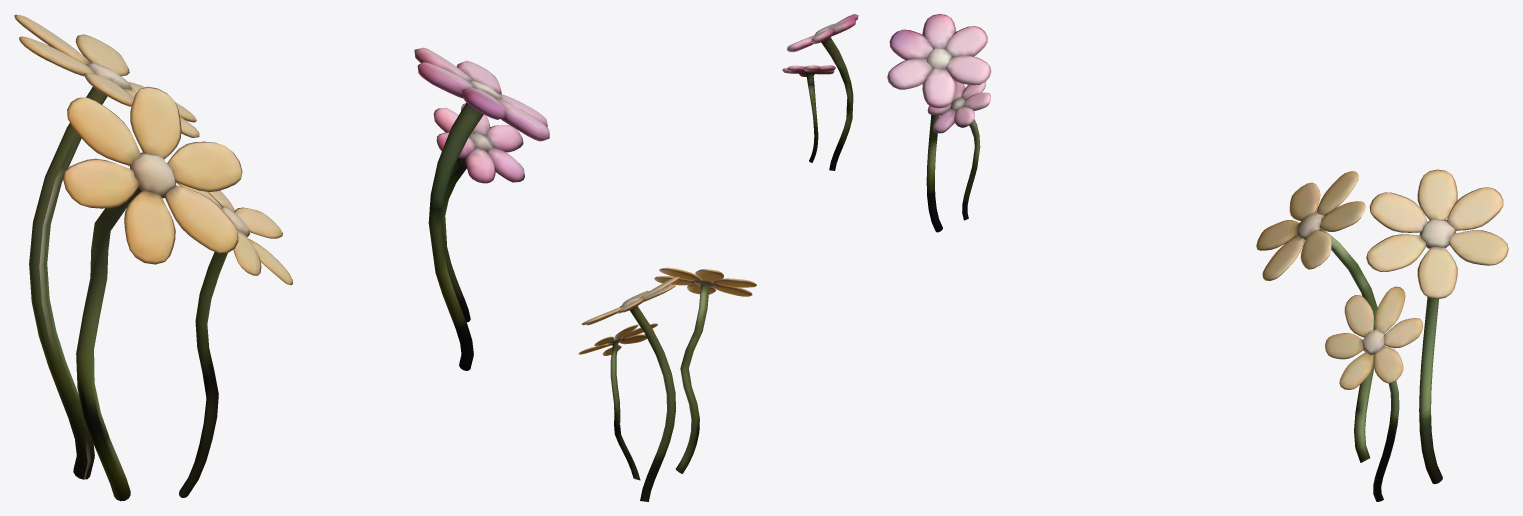
The model's file is flowers.glb.
3 views of the same model, side by side, from view 1: azimuth 30°, elevation 25°; view 2: azimuth 150°, elevation 25°; view 3: azimuth 270°, elevation 25° (orthographic). The views are drawn at different scales.
Visible parts, largest first — view 1: Flower_2_Fourth_Hover_Raycaster, Flower_3_Fourth_Hover_Raycaster, Flower_4_Fourth_Raycaster_Hover, Flower_1_Fourth_Hover_Raycaster, Flower_5_Fourth_Raycaster_Hover; view 2: Flower_2_Fourth_Hover_Raycaster, Flower_3_Fourth_Hover_Raycaster, Flower_4_Fourth_Raycaster_Hover, Flower_1_Fourth_Hover_Raycaster, Flower_5_Fourth_Raycaster_Hover; view 3: Flower_3_Fourth_Hover_Raycaster, Flower_2_Fourth_Hover_Raycaster, Flower_4_Fourth_Raycaster_Hover, Flower_1_Fourth_Hover_Raycaster, Flower_5_Fourth_Raycaster_Hover.
Part boxes in pixels (x1,y1,x2,y2): Flower_2_Fourth_Hover_Raycaster: [63, 86, 242, 501]; Flower_3_Fourth_Hover_Raycaster: [14, 14, 199, 479]; Flower_4_Fourth_Raycaster_Hover: [414, 47, 549, 370]; Flower_1_Fourth_Hover_Raycaster: [176, 182, 292, 497]; Flower_5_Fourth_Raycaster_Hover: [433, 103, 524, 322]; Flower_2_Fourth_Hover_Raycaster: [654, 267, 756, 473]; Flower_3_Fourth_Hover_Raycaster: [581, 276, 679, 501]; Flower_4_Fourth_Raycaster_Hover: [787, 14, 858, 170]; Flower_1_Fourth_Hover_Raycaster: [578, 323, 657, 480]; Flower_5_Fourth_Raycaster_Hover: [782, 65, 835, 162]; Flower_3_Fourth_Hover_Raycaster: [1366, 169, 1508, 484]; Flower_2_Fourth_Hover_Raycaster: [1256, 171, 1377, 462]; Flower_4_Fourth_Raycaster_Hover: [887, 14, 991, 232]; Flower_1_Fourth_Hover_Raycaster: [1325, 286, 1422, 501]; Flower_5_Fourth_Raycaster_Hover: [927, 81, 990, 220].
Bounding box in the file's own units: 0.4881 × 1.14 × 1.41.
Materials: 1 (1 with a texture image).
